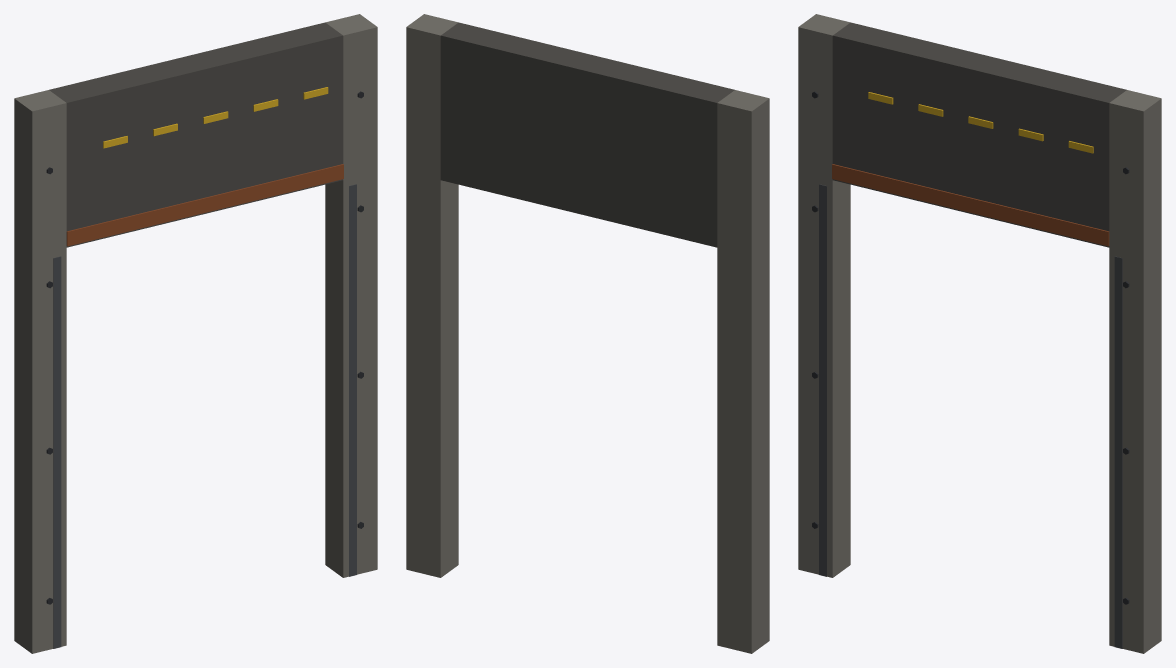
Rendered from piece_door_frame.fbx.
3 views of the same model, side by side, from view 1: azimuth 30°, elevation 25°; view 2: azimuth 150°, elevation 25°; view 3: azimuth 330°, elevation 25° (orthographic).
Parts seen in each view (by area): view 1: piece_door_frame; view 2: piece_door_frame; view 3: piece_door_frame.
Boxes of the visible parts, box(x1,y1,x2,y2) form: piece_door_frame: box(14, 14, 377, 653); piece_door_frame: box(406, 14, 769, 653); piece_door_frame: box(798, 14, 1161, 653).
Bounding box in the file's own units: 2 × 3 × 0.189.
